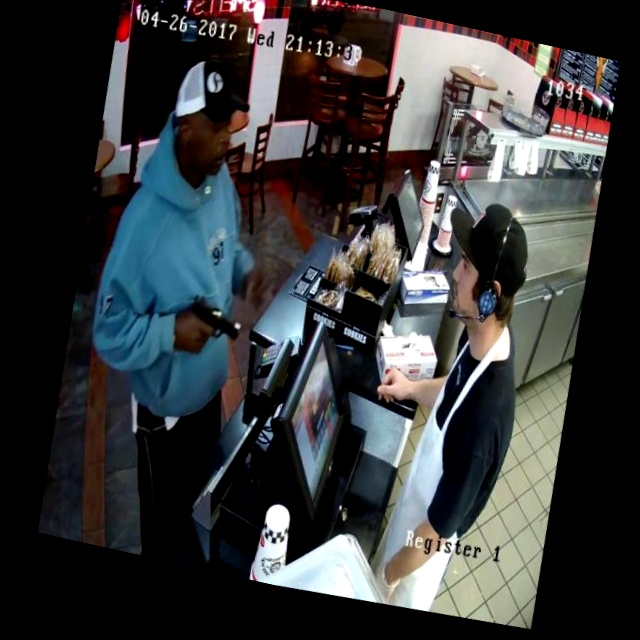gun: (168, 280, 262, 358)
